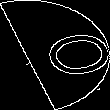O_W: (9, 26, 101, 84)
